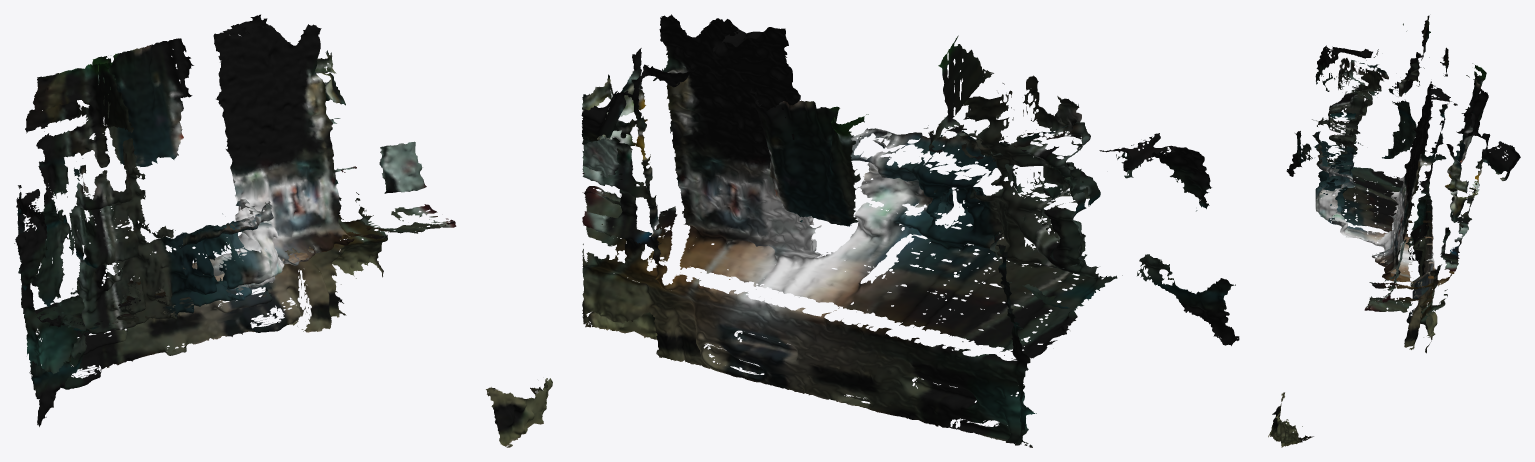
File: color_model_f007_20251226_162852.obj
3 renders of one model, left to right at view 1: azimuth 30°, elevation 25°; view 2: azimuth 150°, elevation 25°; view 3: azimuth 270°, elevation 25°, orthographic. The views are drawn at different scales.
Size of the model in its own units: 3.69 by 2.68 by 2.05.
